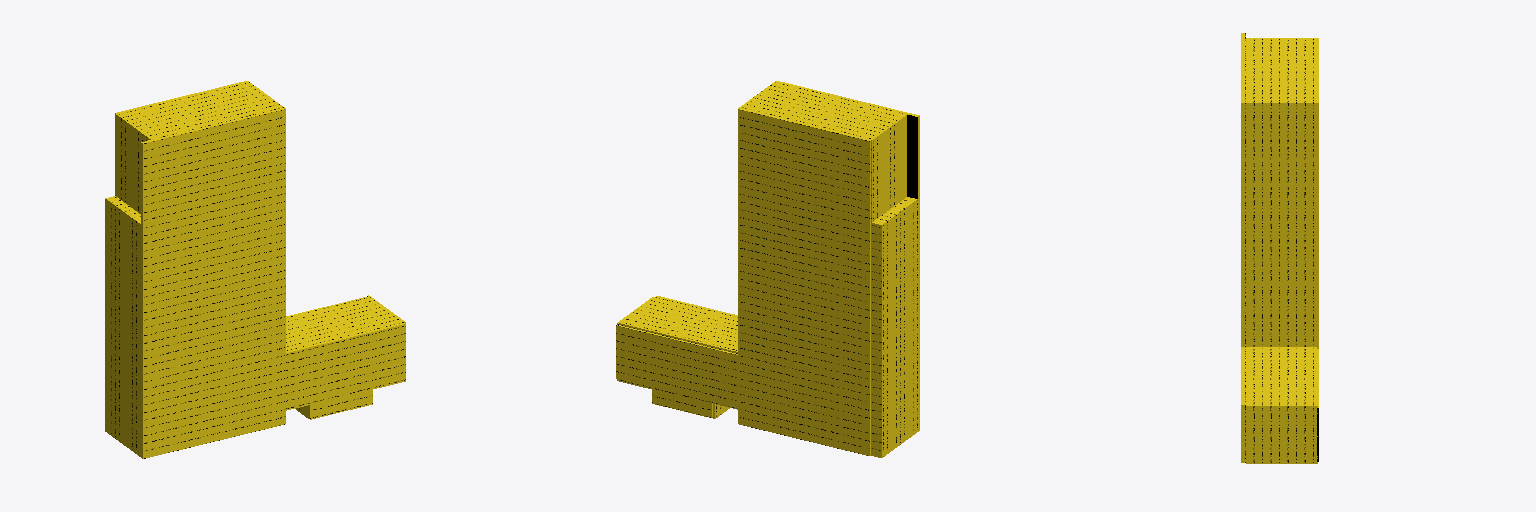
3 views of the same model, side by side, from view 1: azimuth 30°, elevation 25°; view 2: azimuth 150°, elevation 25°; view 3: azimuth 270°, elevation 25° (orthographic).
Parts seen in each view (by area): view 1: 3334, 3317, 3315, 2630, 714, 2631, 2992, 3320, 3316, 67; view 2: 2, 722, 714, 2630, 2631, 2992, 3320, 3334, 3172, 67; view 3: 3322, 27, 2630, 2992, 3707, 3334, 2, 3315.
Part boxes in pixels (x1,y1,x2,y2): 3334: (141,107,285,316); 3317: (141,282,285,458); 3315: (286,322,405,410); 2630: (116,82,281,140); 714: (105,309,140,454); 2631: (105,196,140,314); 2992: (286,297,402,350); 3320: (116,118,146,213); 3316: (308,390,372,419); 67: (105,289,140,333); 2: (738,108,870,455); 722: (616,325,737,408); 714: (871,309,917,455); 2630: (741,83,906,143); 2631: (871,197,917,315); 2992: (619,297,737,353); 3320: (871,119,906,222); 3334: (775,81,919,288); 3172: (653,388,712,417); 67: (871,290,917,334); 3322: (1246,102,1316,275); 27: (1246,276,1316,346); 2630: (1246,38,1316,101); 2992: (1246,347,1316,404); 3707: (1246,405,1317,461); 3334: (1241,33,1245,275); 2: (1317,38,1318,348); 3315: (1241,347,1245,462).
Bounding box in the file's own units: 576 × 660 × 146.
Materials: 32 (32 with a texture image).